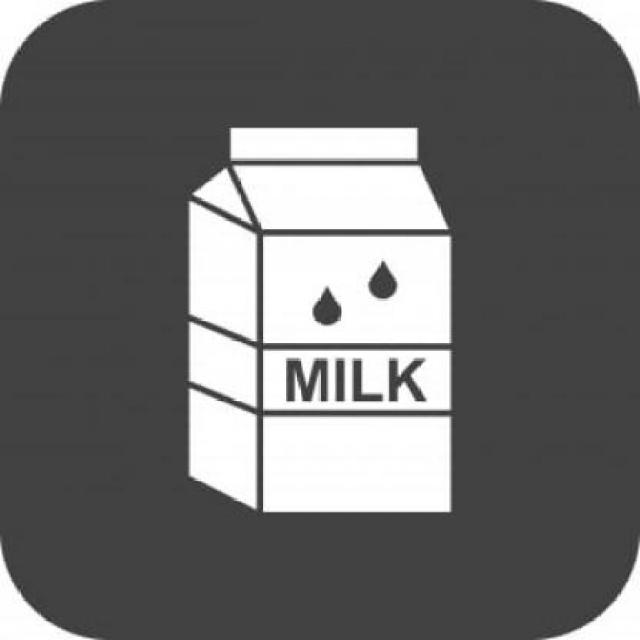non_white_jug: (177, 115, 460, 523)
